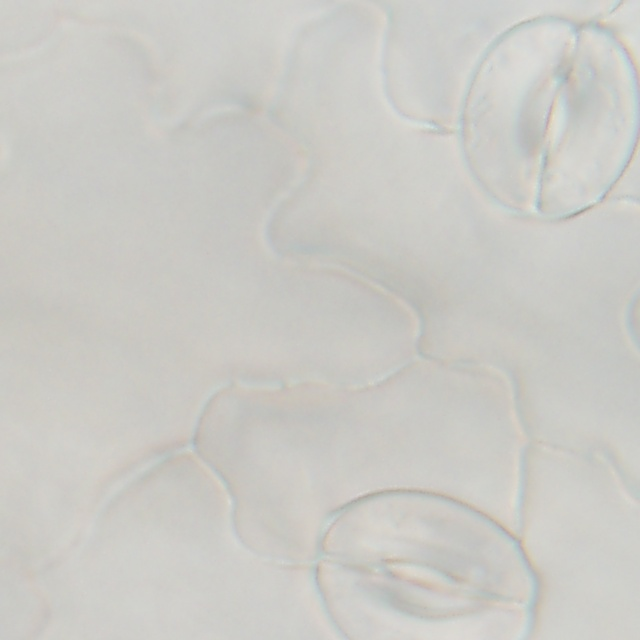center: (362, 556, 492, 618), (520, 68, 573, 167), (620, 318, 640, 321)
stomata-huw1: (462, 18, 638, 220), (317, 492, 537, 639), (628, 289, 639, 350)
